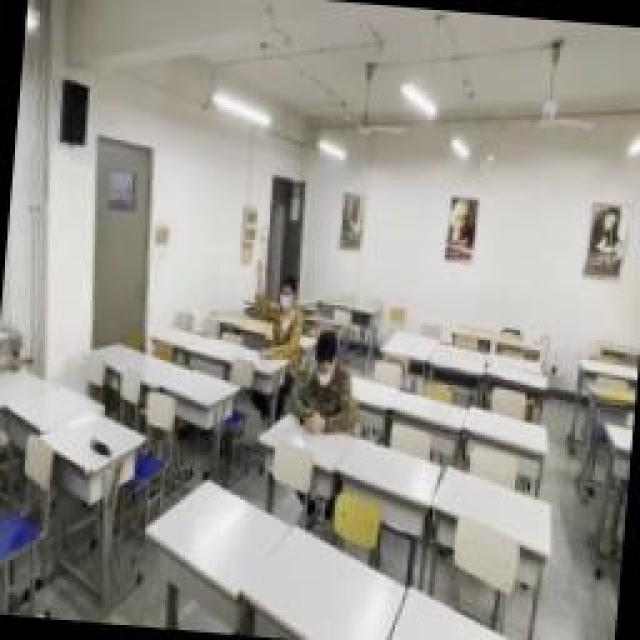phone: (295, 325, 360, 437)
study: (250, 255, 308, 360)
